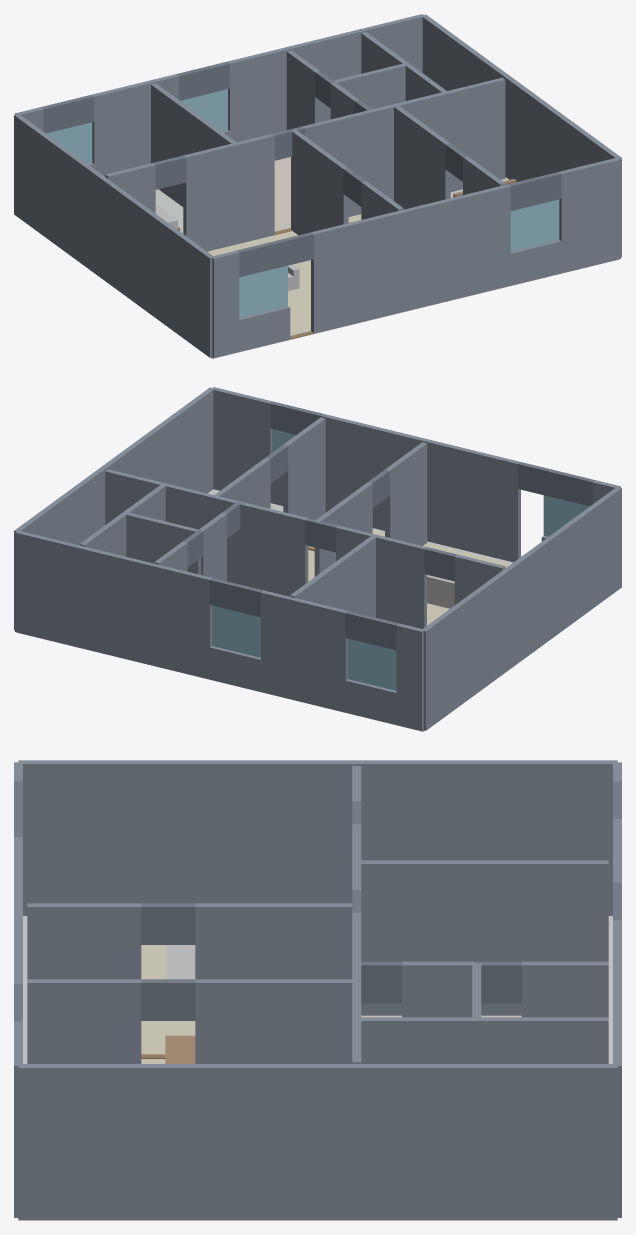
3 renders of one model, top to bottom at view 1: azimuth 30°, elevation 25°; view 2: azimuth 150°, elevation 25°; view 3: azimuth 270°, elevation 25°, orthographic. The views are drawn at different scales.
Visible parts, largest first — view 1: wall_002_pw_west, wall_post_000_02, wall_post_006_final, wall_003_pw_east, wall_post_001_final, wall_post_006_01, wall_post_000_final, wall_post_001_01, wall_post_004_final, wall_post_005_final, wall_007_iw4, wall_post_000_00 (+26 smaller); view 2: wall_002_pw_west, wall_post_001_final, wall_post_000_02, wall_003_pw_east, wall_post_006_final, wall_post_001_01, wall_post_006_01, wall_post_000_final, wall_007_iw4, wall_post_004_00, wall_post_005_00, wall_post_001_00 (+25 smaller); view 3: wall_003_pw_east, wall_002_pw_west, wall_007_iw4, wall_post_005_final, wall_post_004_final, wall_010_iw7, wall_post_005_00, wall_post_004_00, wall_post_008_final, wall_post_008_01, lintel_door_004_d2, lintel_door_005_d3 (+11 smaller).
Boxes of the visible parts, x1,y1,x2,y2 form: wall_002_pw_west: (14, 114, 212, 357); wall_post_000_02: (311, 184, 510, 333); wall_post_006_final: (302, 77, 505, 216); wall_003_pw_east: (422, 14, 621, 257); wall_post_001_final: (227, 14, 424, 142); wall_post_006_01: (183, 134, 274, 251); wall_post_000_final: (559, 157, 620, 273); wall_post_001_01: (92, 74, 178, 176); wall_post_004_final: (291, 129, 348, 235); wall_post_005_final: (393, 104, 450, 209); wall_007_iw4: (151, 83, 237, 206); wall_post_000_00: (211, 250, 239, 357); wall_002_pw_west: (423, 487, 621, 730); wall_post_001_final: (15, 530, 212, 679); wall_post_000_02: (321, 414, 520, 562); wall_003_pw_east: (14, 387, 213, 630); wall_post_006_final: (105, 469, 308, 596); wall_post_001_01: (261, 590, 348, 712); wall_post_006_01: (336, 525, 426, 628); wall_post_000_final: (212, 387, 272, 490); wall_007_iw4: (290, 535, 376, 617); wall_post_004_00: (385, 442, 427, 545); wall_post_005_00: (283, 417, 325, 519); wall_post_001_00: (396, 623, 424, 730); wall_003_pw_east: (18, 1064, 617, 1219); wall_002_pw_west: (18, 760, 617, 915); wall_007_iw4: (357, 860, 608, 1015); wall_post_005_final: (195, 979, 356, 1063); wall_post_004_final: (195, 903, 352, 979); wall_010_iw7: (361, 1017, 608, 1063); wall_post_005_00: (27, 979, 141, 1063); wall_post_004_00: (27, 903, 141, 979); wall_post_008_final: (521, 961, 608, 1017); wall_post_008_01: (402, 961, 473, 1017); lintel_door_004_d2: (141, 903, 195, 944); lintel_door_005_d3: (141, 979, 195, 1020).
Bounding box in the file's own units: 12.15 × 2.85 × 10.15.
